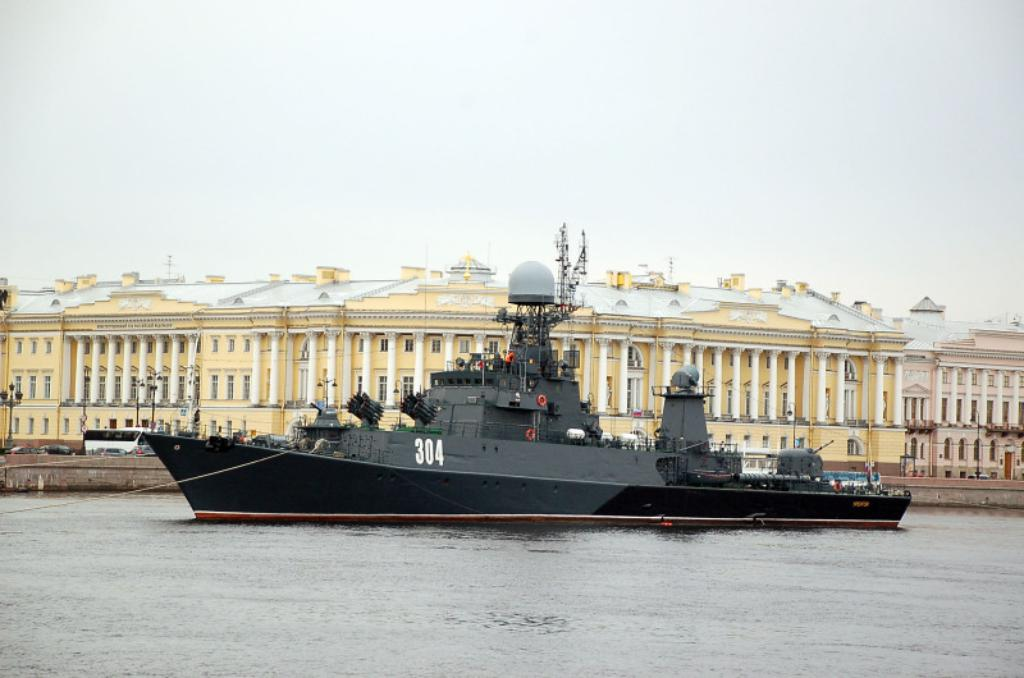Warship: (134, 216, 914, 530)
